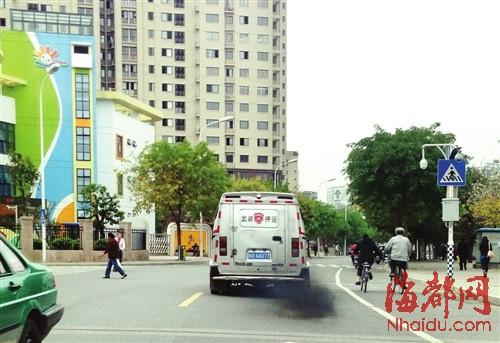smoke: (258, 267, 337, 321)
